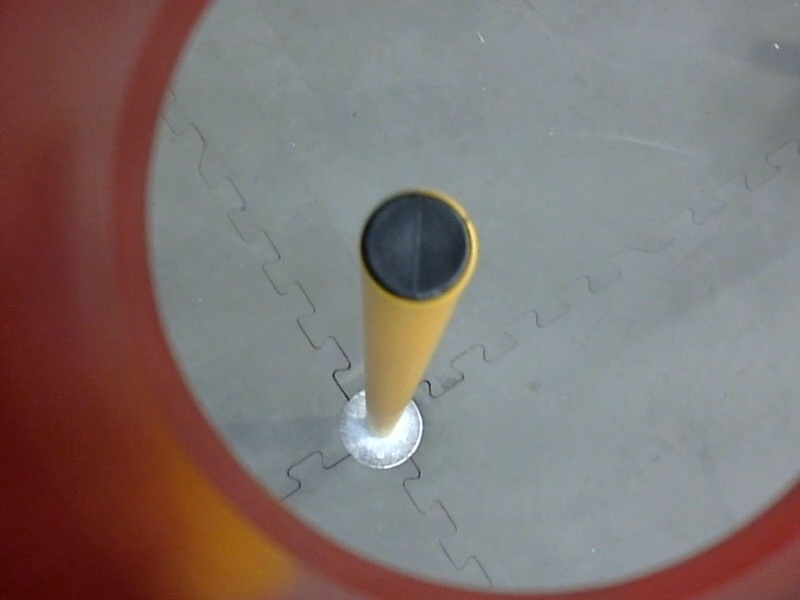tip: (353, 180, 489, 311)
